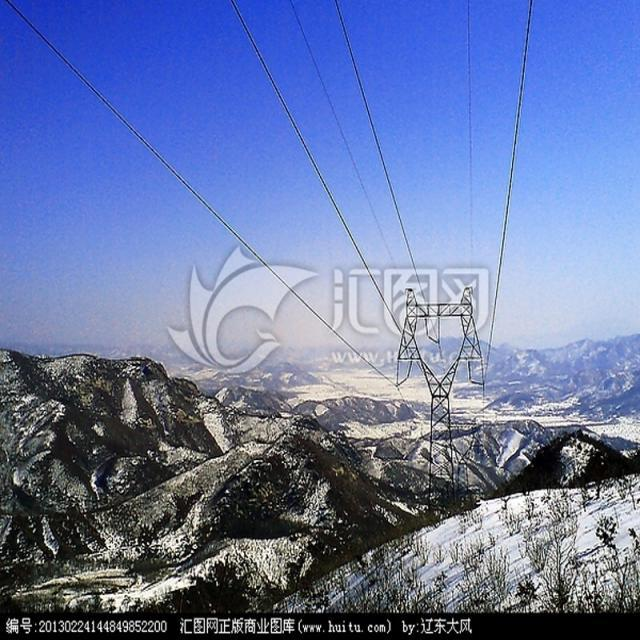non-critical vegetation: (394, 254, 484, 506)
